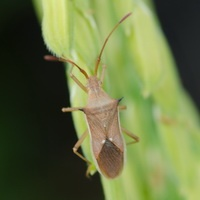insect: (44, 12, 138, 177)
